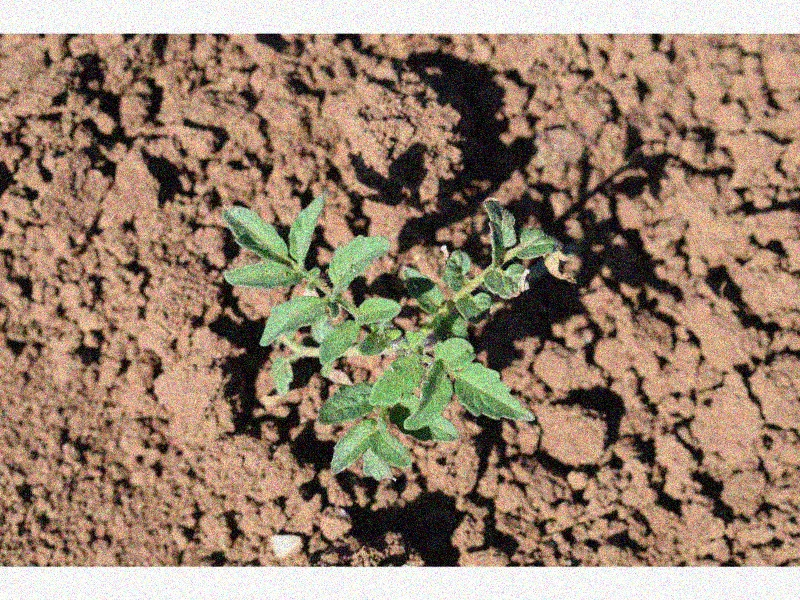tomato: (221, 196, 562, 478)
